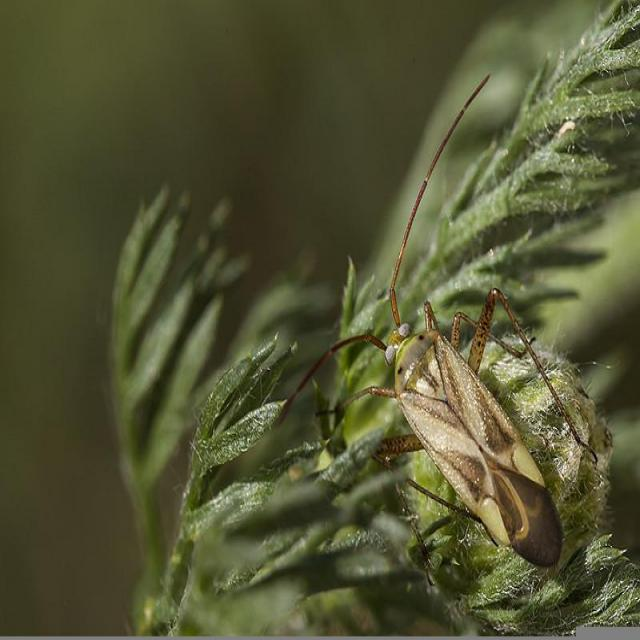Miridae-Adult-: (302, 59, 602, 578)
